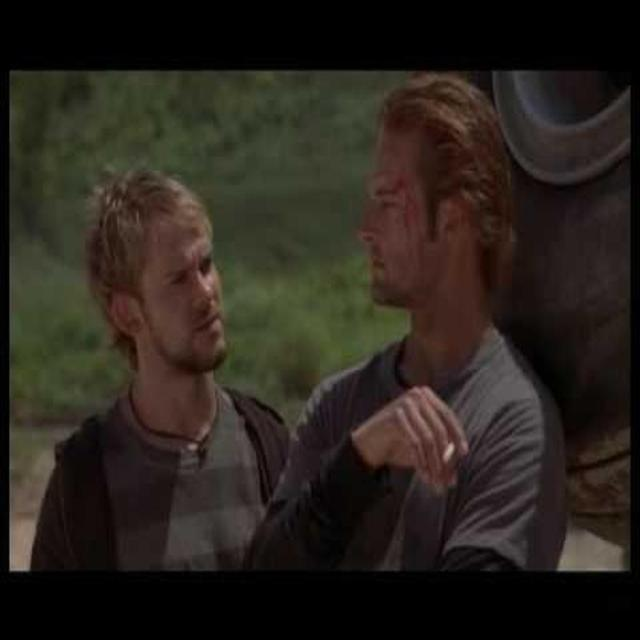smoking: (350, 82, 514, 494)
